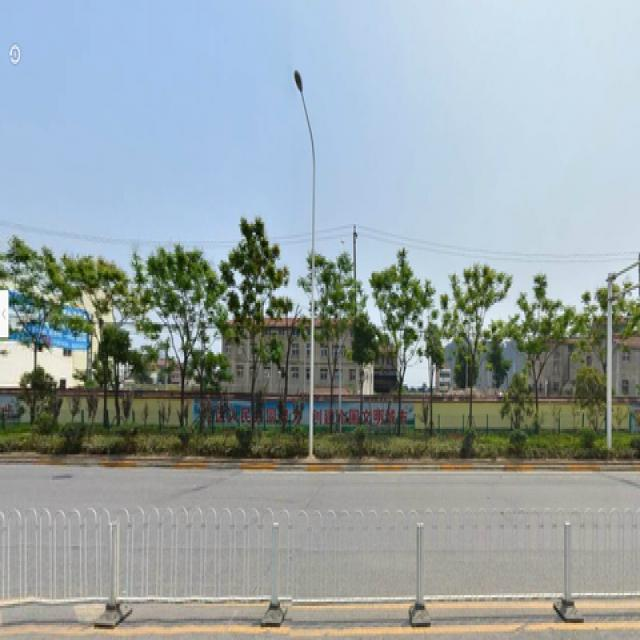koel: (143, 256, 196, 405), (524, 288, 559, 418), (232, 241, 272, 350), (462, 260, 487, 427), (384, 260, 425, 361), (16, 254, 49, 367), (320, 256, 347, 375), (80, 241, 101, 363)
